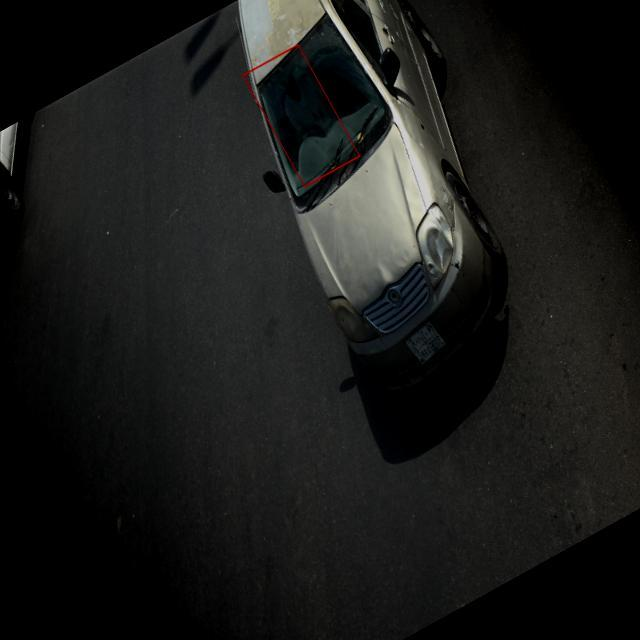windshield: (255, 13, 401, 210)
